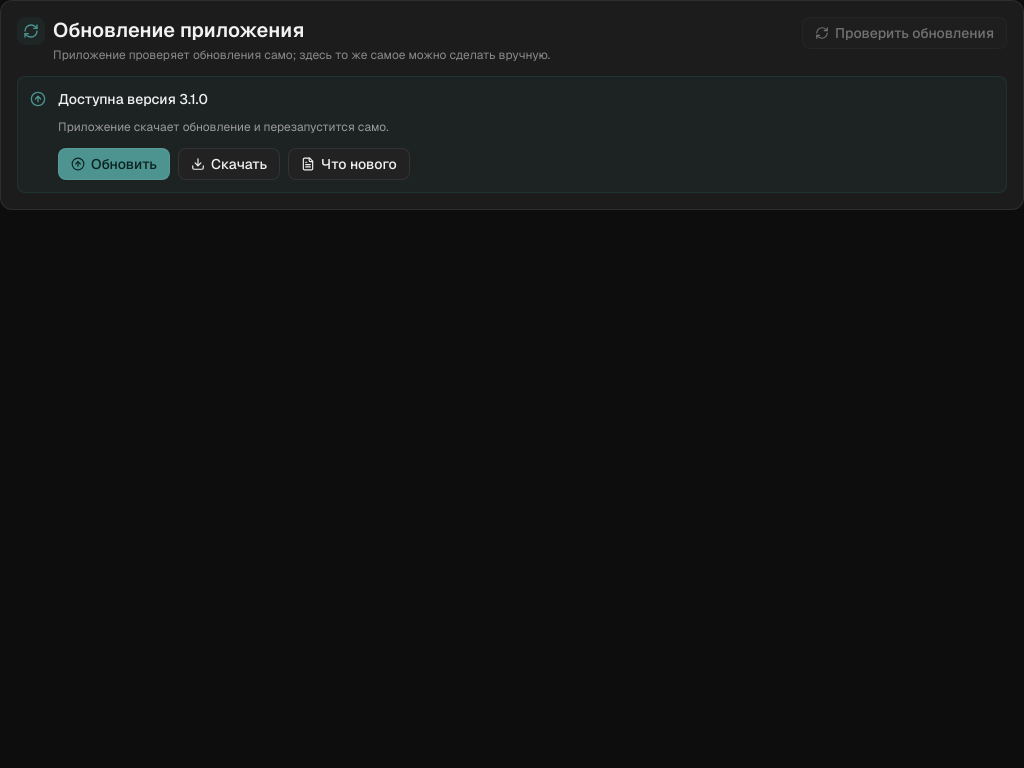
Test: UpdateCard › отказ self_update не выносит на экран ни пути, ни адреса, ни кода ответа
Click the button "Обновить": point(114, 164) [58,148,170,180]
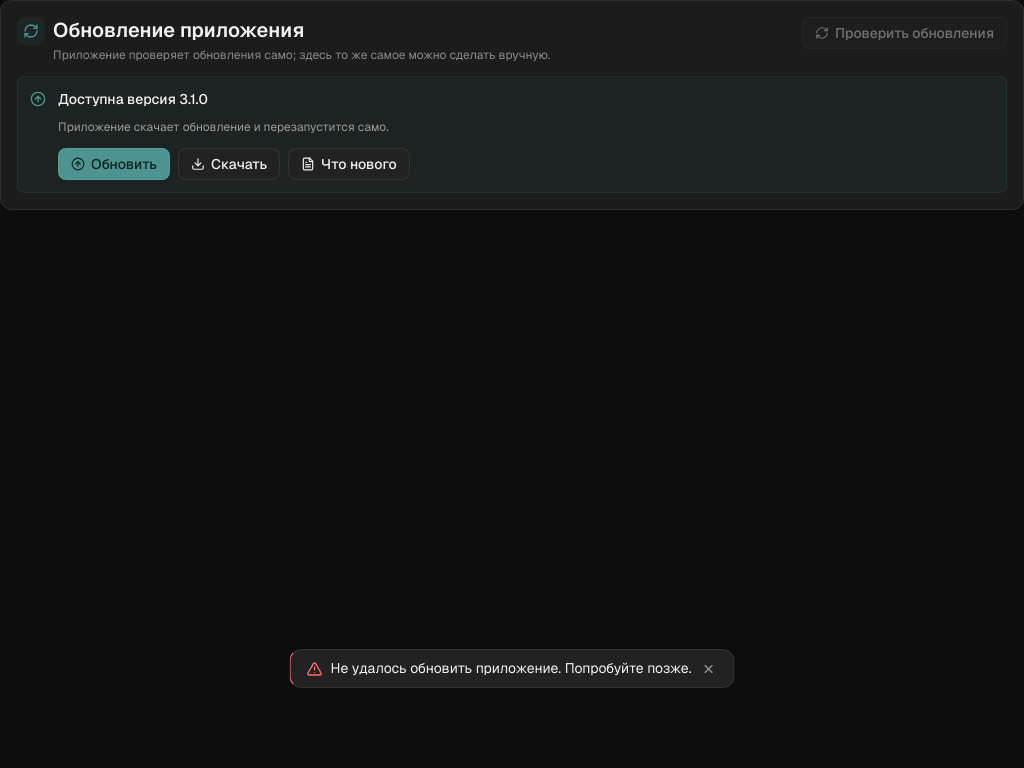
expect the text "Не удалось обновить приложение. Попробуйте позже." is shown: met, box [330,658,691,679]
